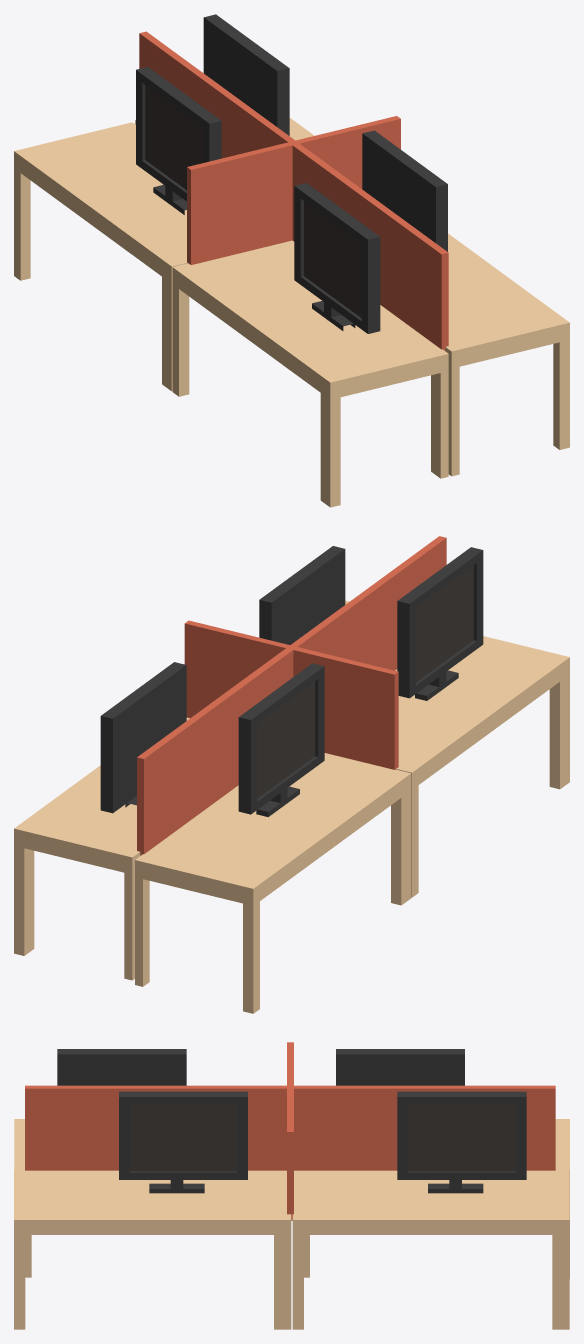
File: comtable 8.fbx
The picture shows the model from 3 angles, top to bottom: view 1: azimuth 30°, elevation 25°; view 2: azimuth 150°, elevation 25°; view 3: azimuth 270°, elevation 25°; orthographic projection. The views are drawn at different scales.
Visible parts, largest first — view 1: Cube.002; view 2: Cube.002; view 3: Cube.002.
Boxes of the visible parts, left/top/right/bottom form: Cube.002: left=14, top=14, right=569, bottom=507; Cube.002: left=14, top=536, right=569, bottom=1013; Cube.002: left=14, top=1042, right=569, bottom=1329.
Bounding box in the file's own units: 136 × 129 × 313.
